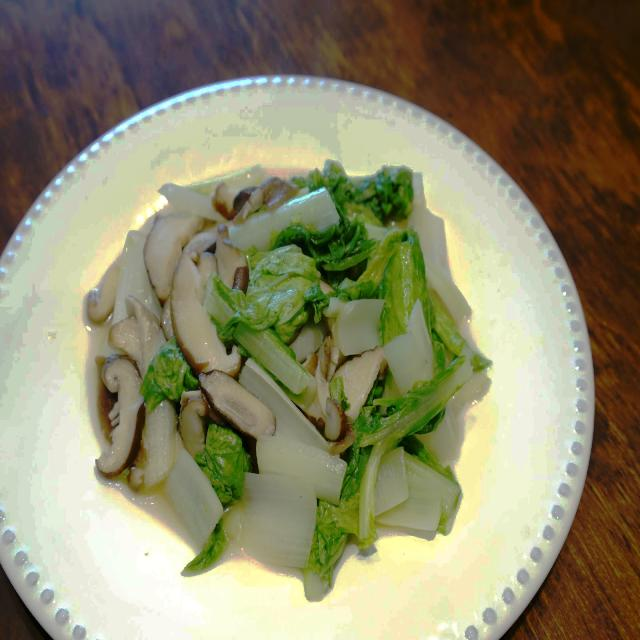chinese_cabbage: (66, 138, 525, 577)
